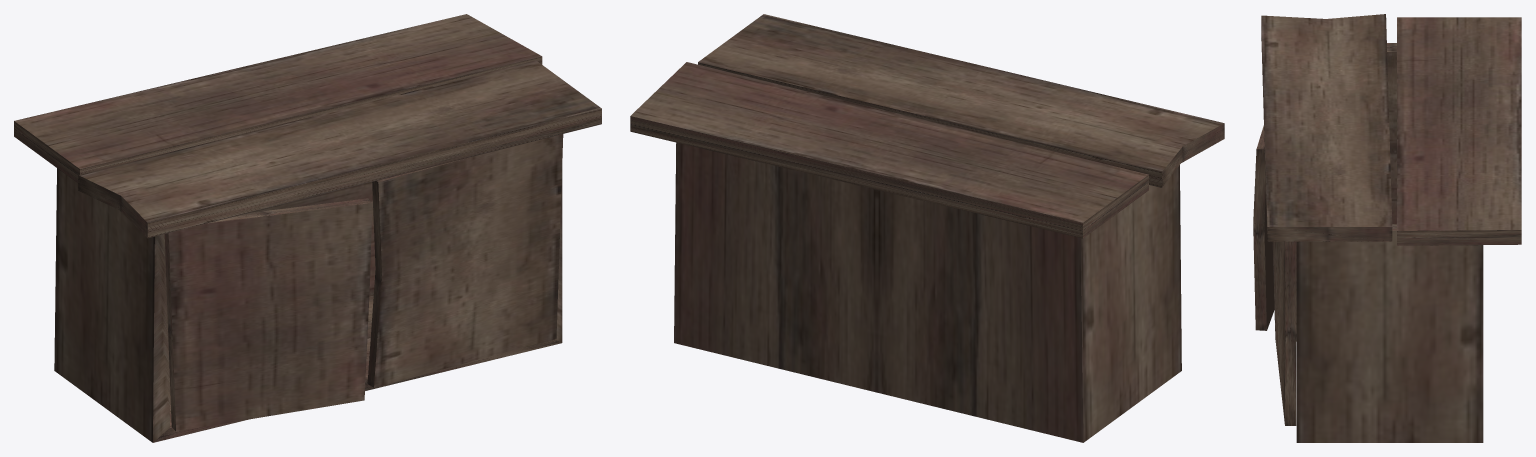
Rendered from cabinet_shanty_low.fbx.
3 renders of one model, left to right at view 1: azimuth 30°, elevation 25°; view 2: azimuth 150°, elevation 25°; view 3: azimuth 270°, elevation 25°, orthographic. The views are drawn at different scales.
Visible parts, largest first — view 1: cabinet_base1, cabinet_base2, pCube2, pCube1, cabinet_base; view 2: cabinet_base, pCube1, pCube2; view 3: cabinet_base, pCube1, pCube2, cabinet_base2, cabinet_base1.
Boxes of the visible parts, x1,y1,x2,y2 form: cabinet_base1: (164, 198, 372, 431); cabinet_base2: (367, 134, 563, 387); pCube2: (78, 60, 601, 238); pCube1: (14, 14, 542, 183); cabinet_base: (54, 168, 562, 442); cabinet_base: (674, 142, 1181, 442); pCube1: (630, 62, 1148, 238); pCube2: (698, 14, 1224, 187); cabinet_base: (1296, 43, 1483, 442); pCube1: (1397, 17, 1521, 245); pCube2: (1261, 14, 1392, 241); cabinet_base2: (1272, 241, 1296, 425); cabinet_base1: (1253, 125, 1274, 330).
Size of the model in its own units: 573 by 280 by 300.
1 material, 1 textured.
